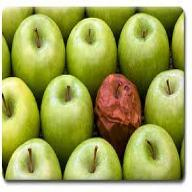apple: (12, 18, 63, 78), (42, 79, 88, 141), (98, 72, 140, 138), (120, 18, 168, 74), (126, 130, 178, 178), (67, 135, 120, 182), (70, 20, 112, 77), (142, 73, 184, 128), (2, 79, 36, 140), (6, 144, 58, 180)
